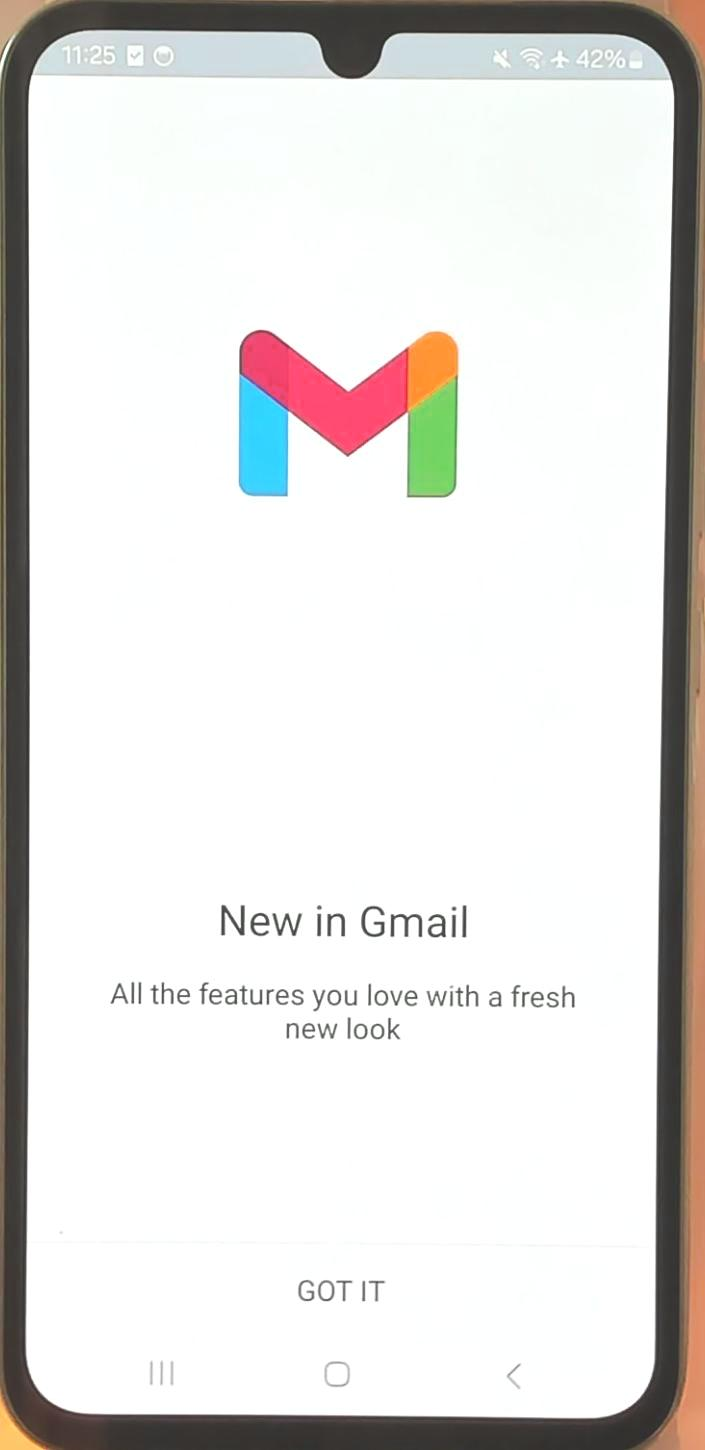CommunBotton: (272, 1254, 402, 1322), (132, 1332, 188, 1400), (496, 1344, 554, 1406), (306, 1348, 376, 1396)
